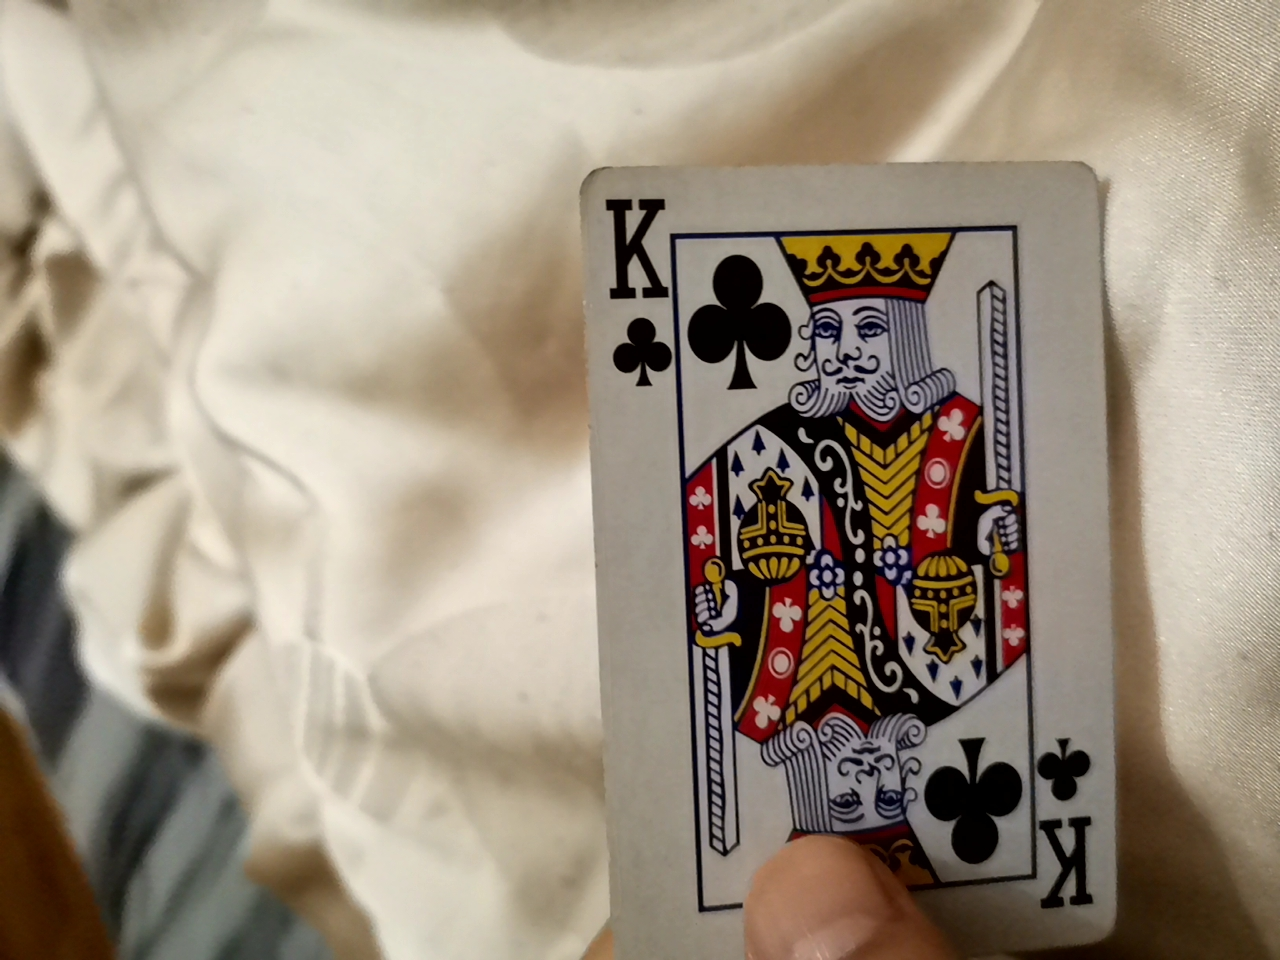mh k: (516, 79, 1157, 936)
